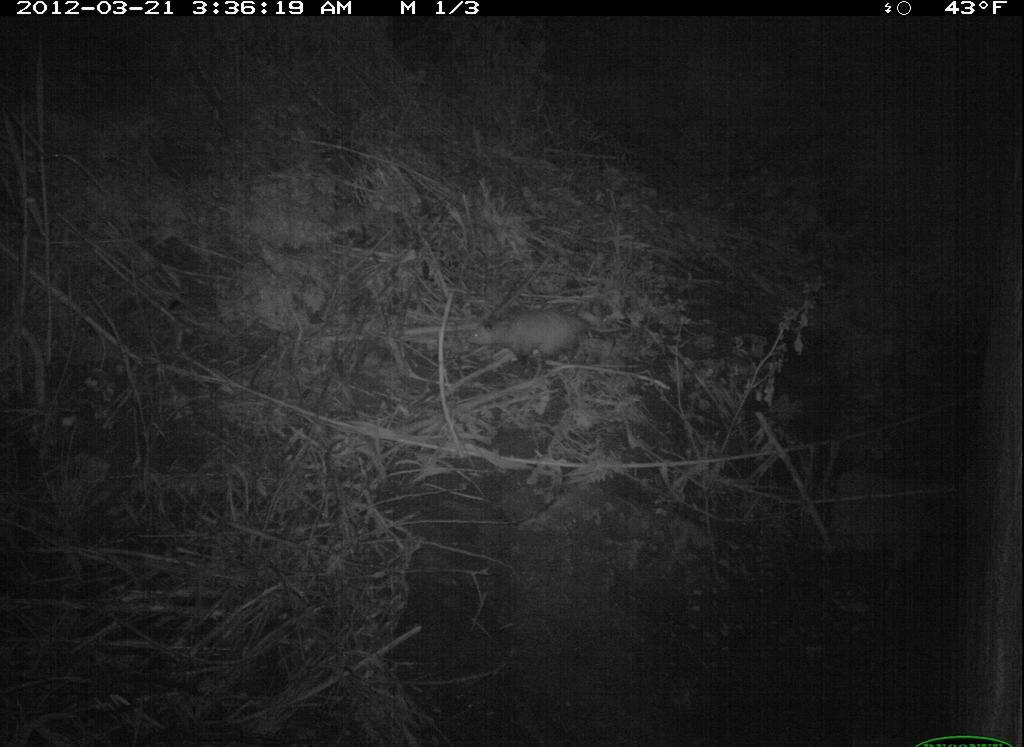opossum: (467, 299, 639, 376)
